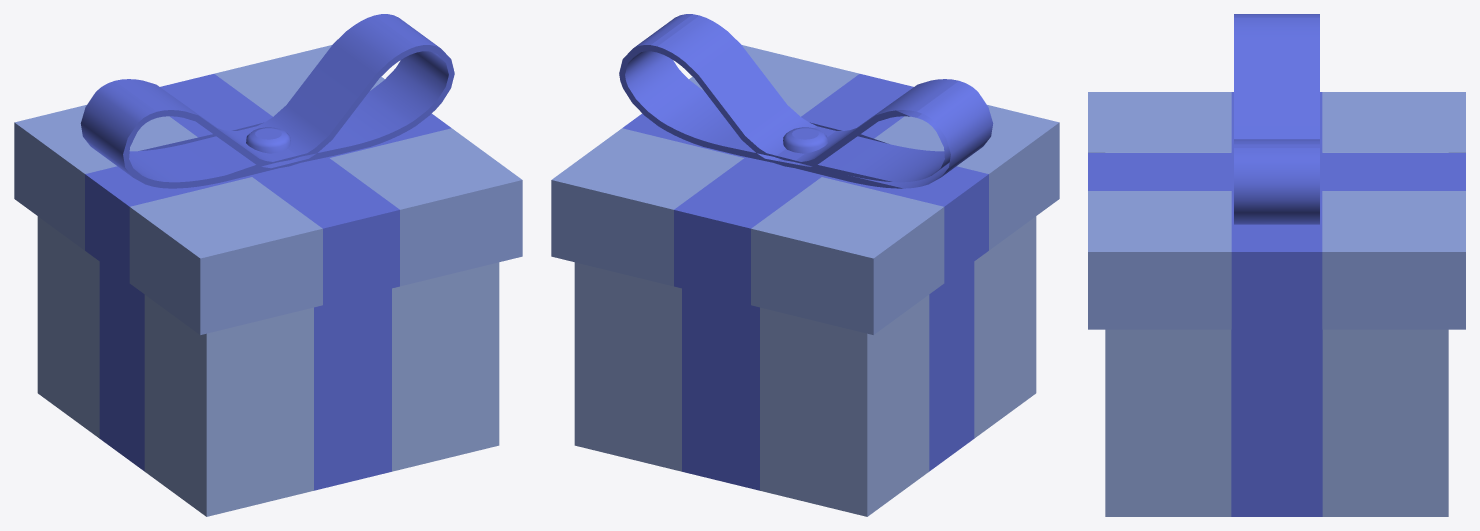
Rendered from Gift.glb.
3 views of the same model, side by side, from view 1: azimuth 30°, elevation 25°; view 2: azimuth 150°, elevation 25°; view 3: azimuth 270°, elevation 25° (orthographic).
Visible parts, largest first — view 1: TGift, BGift; view 2: TGift, BGift; view 3: TGift, BGift.
Part boxes in pixels (bbox=[...]): TGift: bbox=[14, 14, 522, 334]; BGift: bbox=[37, 216, 499, 516]; TGift: bbox=[551, 14, 1059, 334]; BGift: bbox=[574, 216, 1036, 516]; TGift: bbox=[1088, 14, 1465, 329]; BGift: bbox=[1105, 152, 1448, 516].
Size of the model in its own units: 0.2266 by 0.2332 by 0.22.
